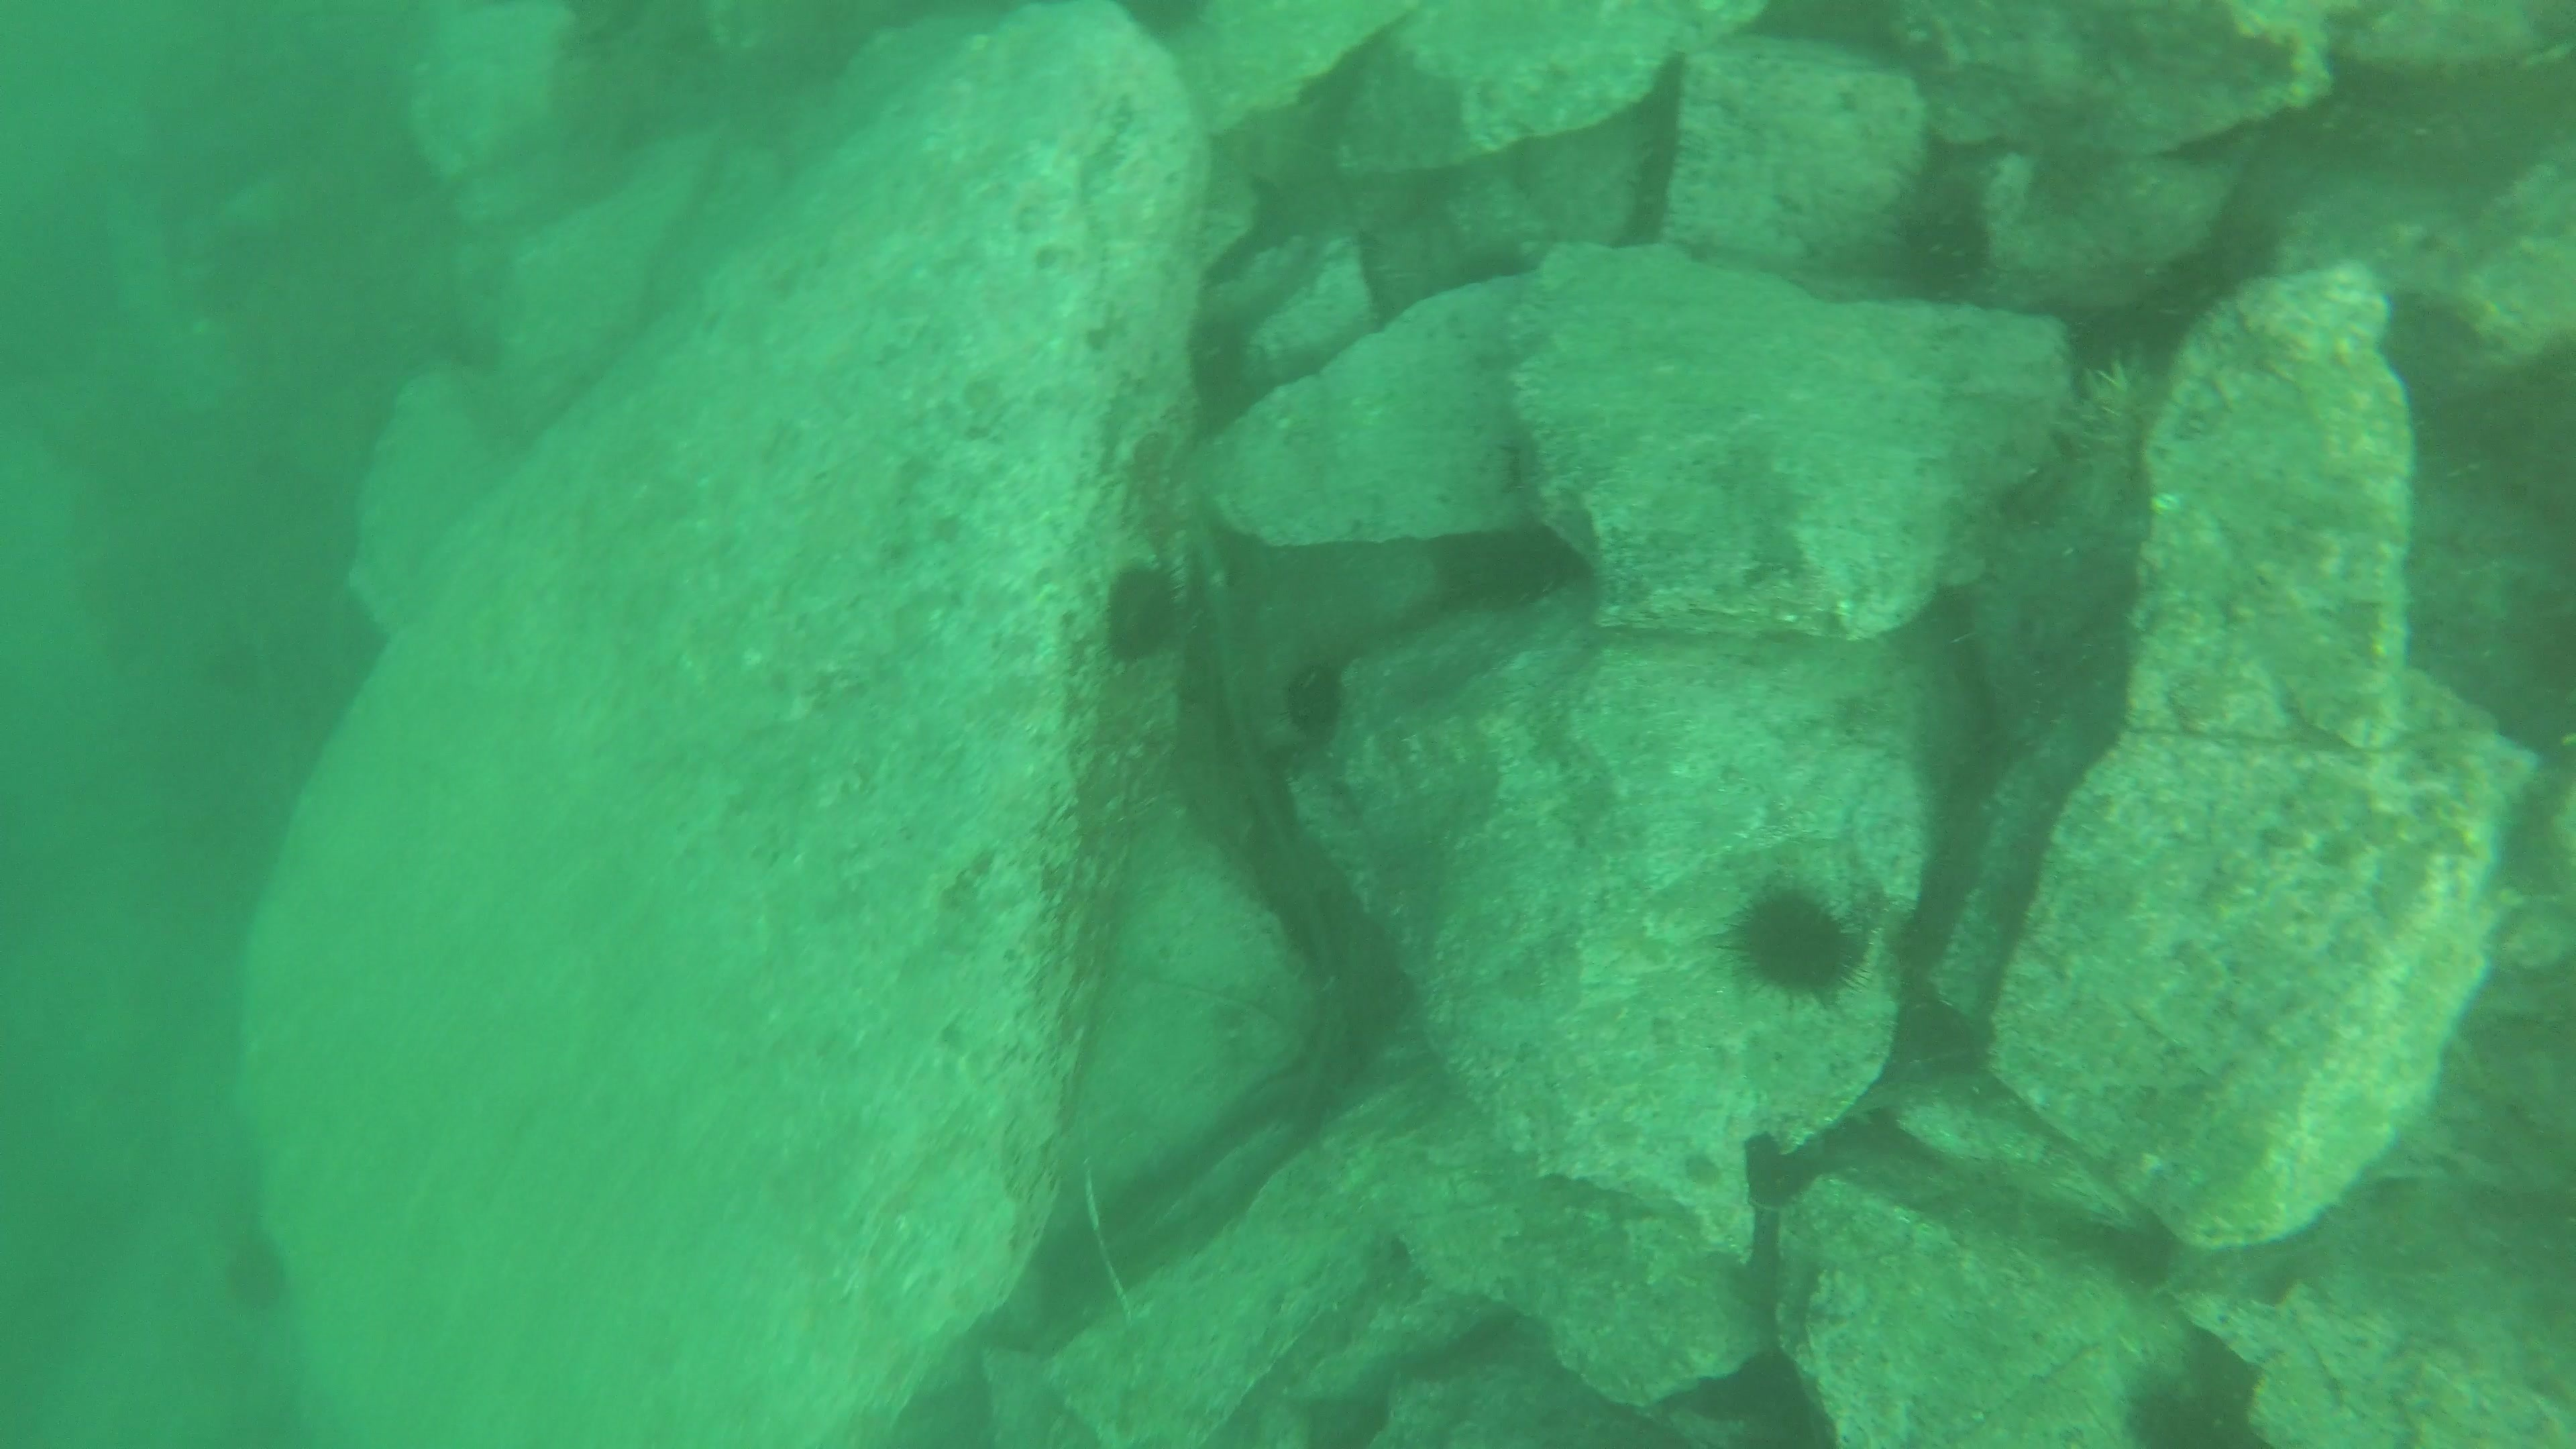echinus: (1720, 874, 1868, 1007), (2074, 354, 2185, 511), (1874, 189, 2001, 308), (1092, 554, 1194, 669), (212, 1224, 299, 1322), (1274, 651, 1357, 750), (1109, 0, 1224, 55)
